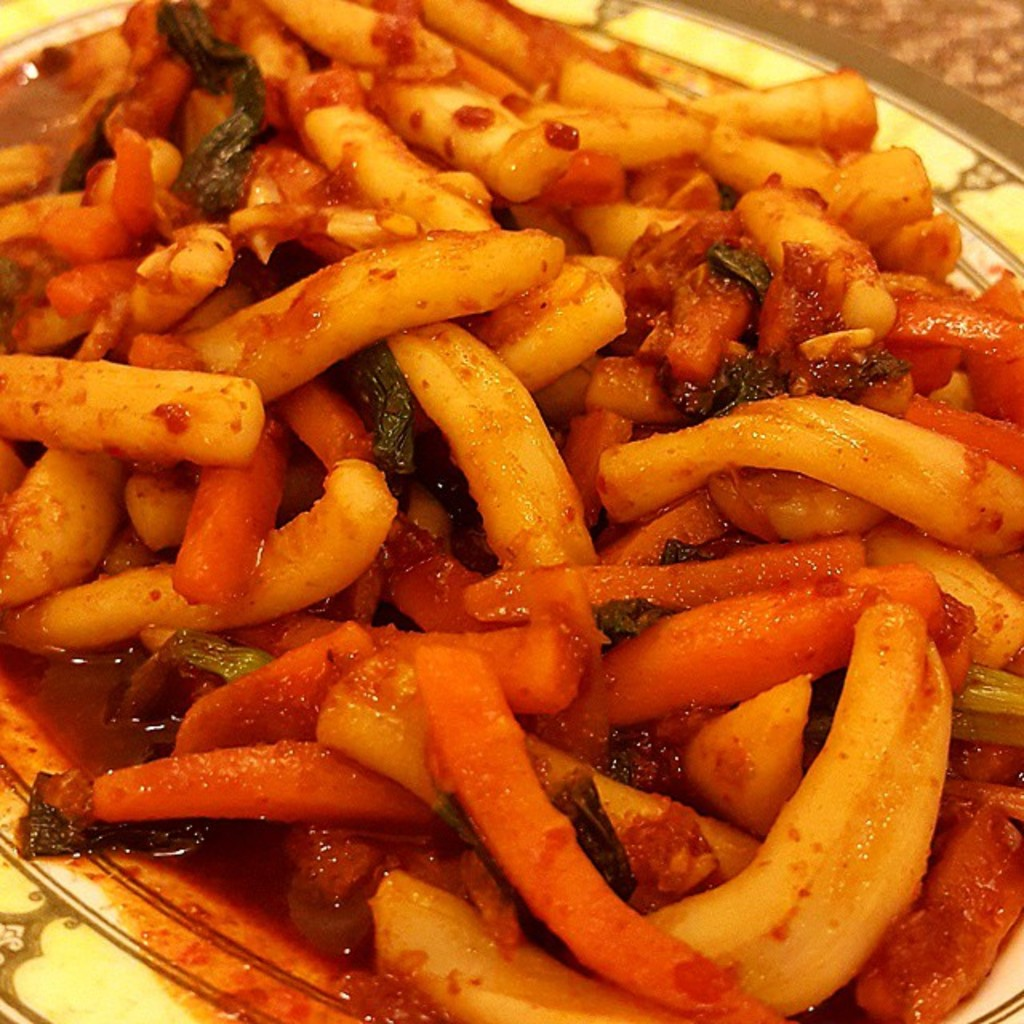French fries: (65, 0, 948, 950)
